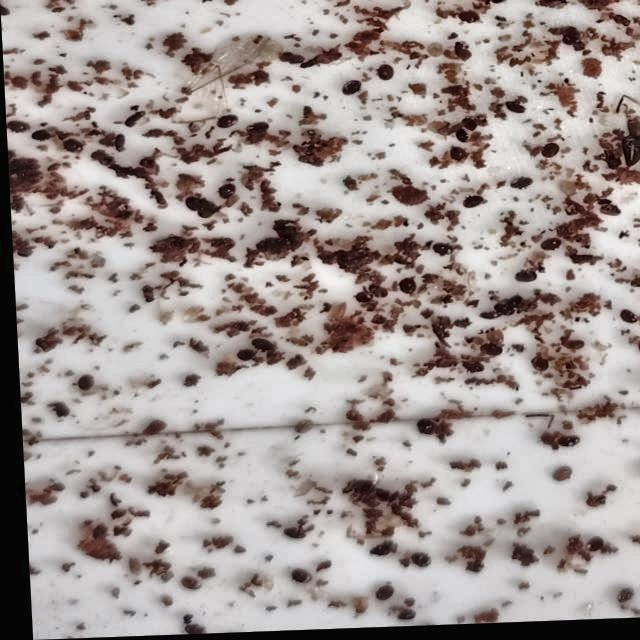varroa: (411, 421, 435, 442), (247, 339, 277, 355), (364, 546, 391, 562), (460, 198, 484, 215), (196, 206, 220, 223), (456, 362, 481, 378), (181, 198, 206, 214), (395, 281, 416, 300), (60, 139, 84, 155), (73, 375, 93, 394), (368, 588, 389, 606), (405, 556, 427, 573), (364, 287, 386, 304), (446, 150, 468, 167), (216, 185, 238, 202), (174, 577, 197, 593), (340, 83, 363, 99), (29, 130, 57, 143), (376, 67, 395, 86), (526, 361, 546, 379), (503, 105, 527, 120), (505, 300, 527, 316), (558, 343, 585, 356), (512, 275, 537, 289), (507, 181, 532, 195), (216, 116, 239, 131), (286, 572, 307, 588), (245, 124, 269, 138), (478, 347, 500, 362), (538, 242, 560, 257), (231, 350, 256, 363), (580, 541, 599, 558), (280, 530, 303, 544), (430, 246, 453, 260), (493, 306, 513, 322), (540, 148, 560, 164), (616, 315, 637, 330), (7, 120, 31, 133), (610, 593, 629, 609), (354, 293, 373, 308), (460, 16, 481, 29), (460, 121, 477, 137), (555, 439, 574, 453), (176, 626, 200, 636), (454, 133, 470, 148), (392, 612, 410, 624)
